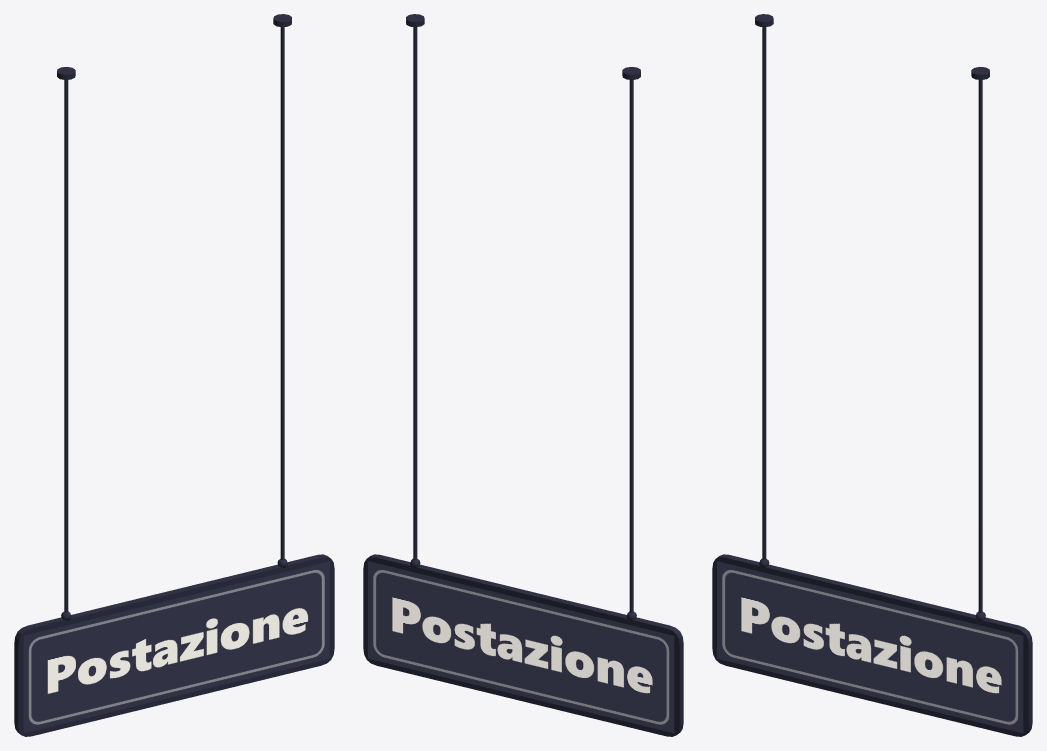
The model's file is cartello_esempio.glb.
3 views of the same model, side by side, from view 1: azimuth 30°, elevation 25°; view 2: azimuth 150°, elevation 25°; view 3: azimuth 330°, elevation 25° (orthographic).
Parts seen in each view (by area): view 1: Cartelli_scrivania, Mesh_0.003; view 2: Cartelli_scrivania, Mesh_0.003; view 3: Cartelli_scrivania, Mesh_0.003.
Boxes of the visible parts, bbox=[...] form: Cartelli_scrivania: bbox=[23, 561, 329, 733]; Mesh_0.003: bbox=[14, 14, 334, 736]; Cartelli_scrivania: bbox=[368, 561, 674, 733]; Mesh_0.003: bbox=[363, 14, 683, 736]; Cartelli_scrivania: bbox=[717, 561, 1023, 733]; Mesh_0.003: bbox=[712, 14, 1032, 736].
Size of the model in its own units: 1.9 by 3.76 by 0.1.
Materials: 2 (1 with a texture image).
